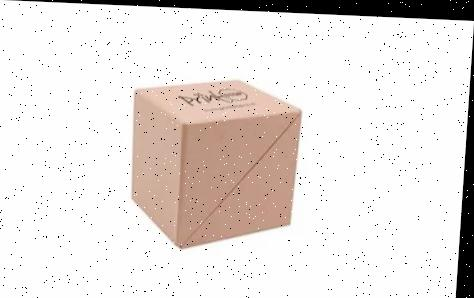cube: (124, 76, 311, 255)
